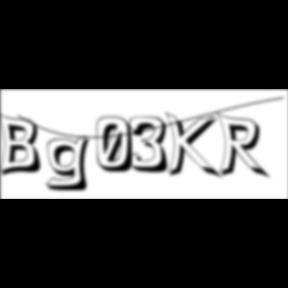0: (96, 115, 142, 174)
3: (129, 116, 175, 176)
B: (0, 111, 48, 179)
K: (166, 110, 225, 182)
R: (216, 112, 274, 182)
g: (45, 134, 97, 194)
